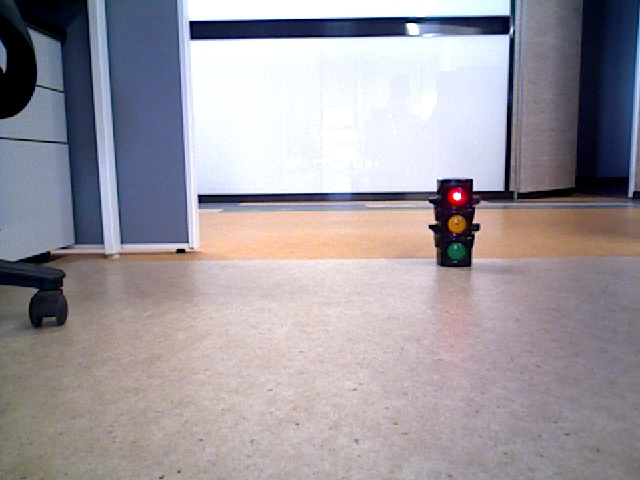red: (434, 182, 473, 261)
